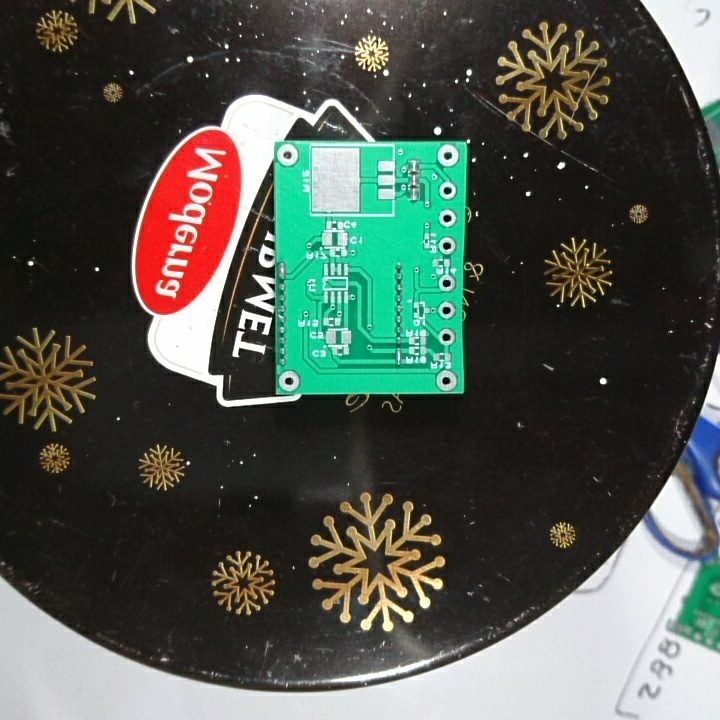F: (435, 143, 461, 169), (434, 366, 459, 390), (276, 143, 299, 169), (278, 369, 301, 392), (437, 207, 459, 229), (437, 235, 459, 256), (438, 180, 459, 201), (437, 325, 458, 346), (437, 299, 457, 321), (438, 272, 457, 295)
P: (275, 258, 289, 280), (392, 346, 405, 368)
